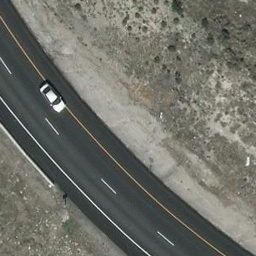car: (41, 86, 67, 113)
